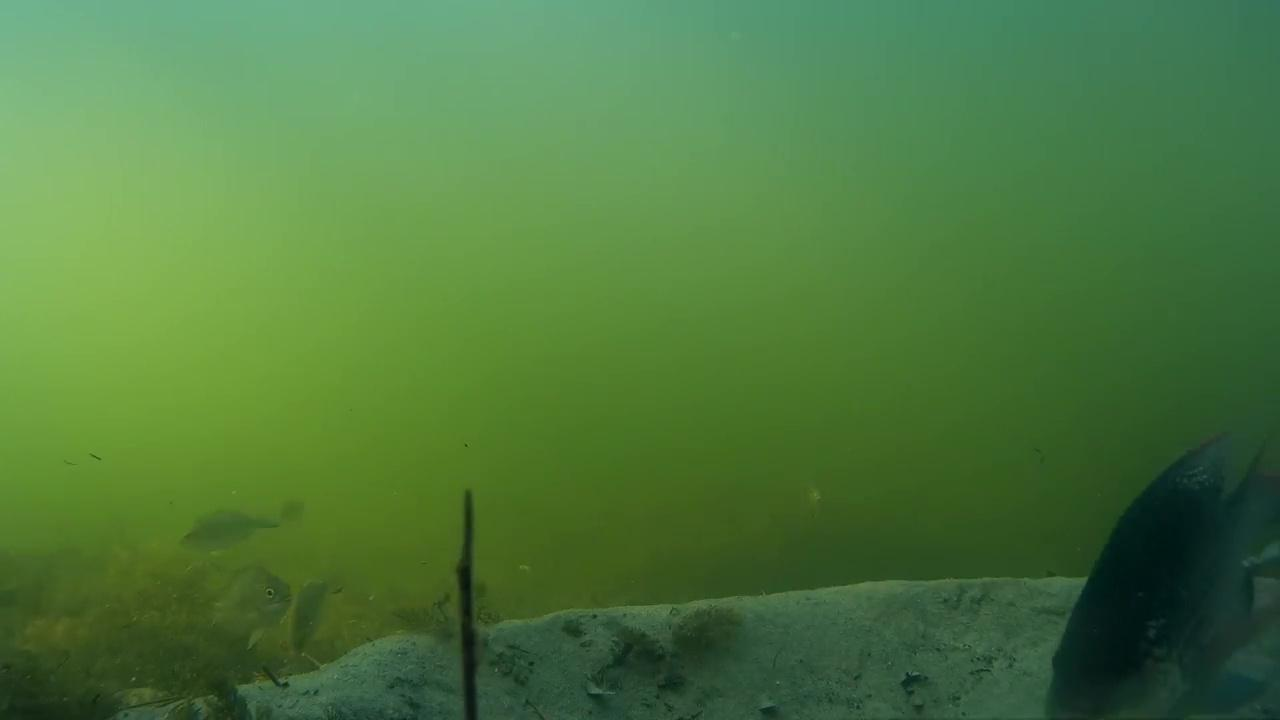Tilapia: (1045, 434, 1280, 720), (179, 494, 283, 564), (217, 558, 295, 650)
